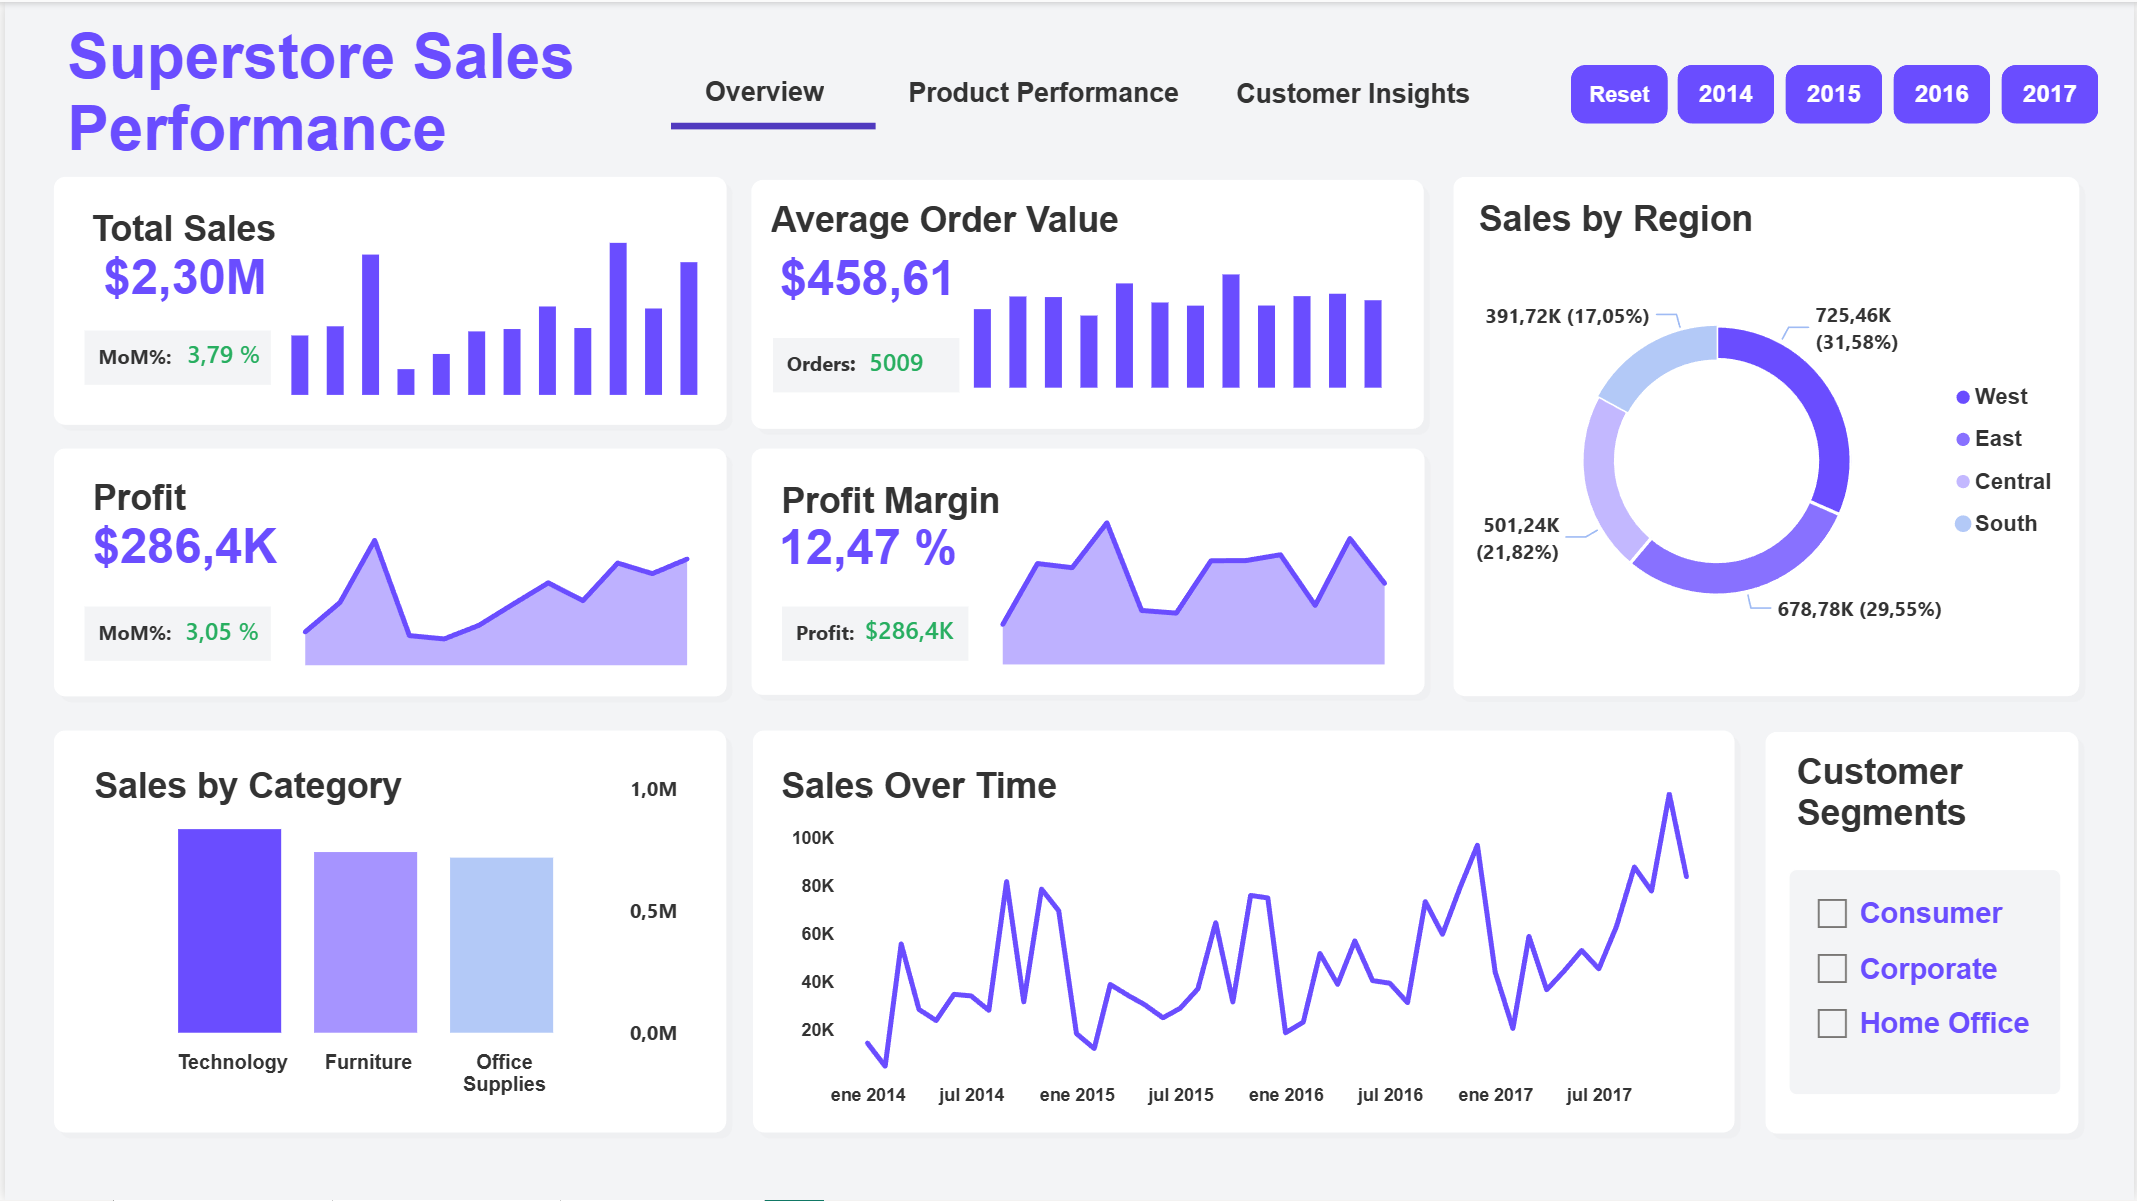

This screenshot's page, from the dashboard's own definition file:
{"tool":"powerbi","page":{"name":"Overview","canvas":[1280,720],"ordinal":0},"visuals":[{"type":"shape","box":[1053,433.5,198.1,251.4],"z":0},{"type":"shape","box":[865.3,100.2,386.2,322.1],"z":1000},{"type":"shape","box":[24.4,433.1,414.1,251.7],"z":2000},{"type":"shape","box":[444.8,433.1,600,251.7],"z":3000},{"type":"shape","box":[24,99.9,414.3,159.1],"z":4000},{"type":"card","fields":{"Values":["Superstore Orders.Total Sales"]},"box":[32.4,136.9,150.8,55.5],"z":5000},{"type":"clusteredColumnChart","fields":{"Y":["Superstore Orders.Total Sales"],"Category":["Superstore Orders.Category"]},"box":[48.7,453.8,367.2,218.3],"z":6000},{"type":"donutChart","fields":{"Category":["Superstore Orders.Region"],"Y":["Superstore Orders.Total Sales"]},"box":[881.1,154.9,364.1,240.4],"z":7000},{"type":"actionButton","box":[1005.6,37.9,58.3,35.1],"z":8000},{"type":"actionButton","box":[1070.4,37.9,58.3,35.1],"z":9000},{"type":"actionButton","box":[1135.1,37.9,58.3,35.1],"z":10000},{"type":"actionButton","box":[1199.5,37.9,58.3,35.1],"z":11000},{"type":"actionButton","box":[940.9,37.9,58.3,35.1],"z":12000},{"type":"slicer","fields":{"Values":["Date.Year"]},"box":[1251.1,691.7,22.7,28.9],"z":13000},{"type":"shape","box":[400.5,49.9,123,49.9],"z":14000},{"type":"actionButton","box":[394.9,34.2,123,39.8],"z":15000},{"type":"actionButton","box":[538.1,35.2,172,39.2],"z":16000},{"type":"actionButton","box":[727.9,35.1,165.5,39.8],"z":17000},{"type":"textbox","box":[32.2,5,349,100.6],"z":18000},{"type":"textbox","box":[47.3,118.7,134.8,46.3],"z":19000},{"type":"textbox","box":[48.1,197,111.9,32.4],"z":20000},{"type":"card","fields":{"Values":["Superstore Orders.Sales MoM %"]},"box":[92.5,194.2,76.8,38.8],"z":21000},{"type":"clusteredColumnChart","fields":{"Y":["Superstore Orders.Total Sales"],"Category":["Date.Month"]},"box":[167,117.7,254.5,123.7],"z":22000},{"type":"shape","box":[24,263.6,414.3,159.1],"z":23000},{"type":"textbox","box":[47.6,280.4,119.3,46.2],"z":24000},{"type":"textbox","box":[47.6,363.6,111.9,32.4],"z":25000},{"type":"card","fields":{"Values":["Superstore Orders.Profit MoM %"]},"box":[92,360.8,76.8,38.8],"z":26000},{"type":"stackedAreaChart","fields":{"Category":["Date.Month"],"Y":["Superstore Orders.Total Profit"]},"box":[166.9,280.4,256.2,123.9],"z":27000},{"type":"card","fields":{"Values":["Superstore Orders.Total Profit"]},"box":[32.2,298.7,150.9,55.3],"z":28000},{"type":"shape","box":[443.9,102,414.1,159.7],"z":29000},{"type":"textbox","box":[455.6,113.7,243.4,46.3],"z":30000},{"type":"textbox","box":[461.5,202,111.9,32.4],"z":31000},{"type":"card","fields":{"Values":["Superstore Orders.Total Orders"]},"box":[496.9,199.1,77.4,38.2],"z":32000},{"type":"card","fields":{"Values":["Superstore Orders.Average Order Value"]},"box":[444.6,137.8,147.8,54.3],"z":33000},{"type":"clusteredColumnChart","fields":{"Y":["Superstore Orders.Average Order Value"],"Category":["Date.Month"]},"box":[577.3,146.8,255.5,90.5],"z":34000},{"type":"shape","box":[443.8,263,414.6,158.2],"z":35000},{"type":"textbox","box":[461.4,281.8,158.9,45.3],"z":36000},{"type":"textbox","box":[467,363.1,111.9,32.4],"z":37000},{"type":"card","fields":{"Values":["Superstore Orders.Total Profit"]},"box":[505.2,360,76.5,39.3],"z":38000},{"type":"stackedAreaChart","fields":{"Y":["Superstore Orders.Profit Margin %"],"Category":["Date.Month"]},"box":[586.3,279.9,256.2,123.9],"z":39000},{"type":"card","fields":{"Values":["Superstore Orders.Profit Margin %"]},"box":[443.9,298.1,149.9,56.3],"z":40000},{"type":"textbox","box":[462,453.8,189.5,46],"z":41000},{"type":"textbox","box":[48.3,453.6,213.2,46.3],"z":42000},{"type":"textbox","box":[1072.2,521,163.9,135.8],"z":43000},{"type":"textbox","box":[881.1,112.6,183.1,46.3],"z":44000},{"type":"textbox","box":[1072.2,445.6,127.7,75.4],"z":45000},{"type":"slicer","fields":{"Values":["Superstore Orders.Segment"]},"box":[1076.4,526.9,156.1,124.5],"z":46000},{"type":"lineChart","fields":{"Y":["Superstore Orders.Total Sales"],"Category":["Date.YearMonthDate"]},"box":[466.7,461.6,568.3,210.2],"z":47000}]}

Visuals, with their boxes in screenshot pixels (x1, y1, x2, y2), scaled from the page's 1280x720 canvas onto the 2137x1201 screenshot:
shape: 1758:723:2089:1142
shape: 1445:167:2089:704
shape: 41:722:732:1142
shape: 743:722:1744:1142
shape: 40:167:732:432
card - Superstore Orders.Total Sales: 54:228:306:321
clusteredColumnChart - Superstore Orders.Total Sales x Superstore Orders.Category: 81:757:694:1121
donutChart - Superstore Orders.Region x Superstore Orders.Total Sales: 1471:258:2079:659
actionButton: 1679:63:1776:122
actionButton: 1787:63:1884:122
actionButton: 1895:63:1992:122
actionButton: 2003:63:2100:122
actionButton: 1571:63:1668:122
slicer - Date.Year: 2089:1154:2127:1200
shape: 669:83:874:166
actionButton: 659:57:865:123
actionButton: 898:59:1186:124
actionButton: 1215:59:1492:125
textbox: 54:8:636:176
textbox: 79:198:304:275
textbox: 80:329:267:383
card - Superstore Orders.Sales MoM %: 154:324:283:389
clusteredColumnChart - Superstore Orders.Total Sales x Date.Month: 279:196:704:403
shape: 40:440:732:705
textbox: 79:468:279:545
textbox: 79:607:266:661
card - Superstore Orders.Profit MoM %: 154:602:282:667
stackedAreaChart - Date.Month x Superstore Orders.Total Profit: 279:468:706:674
card - Superstore Orders.Total Profit: 54:498:306:590
shape: 741:170:1432:437
textbox: 761:190:1167:267
textbox: 770:337:957:391
card - Superstore Orders.Total Orders: 830:332:959:396
card - Superstore Orders.Average Order Value: 742:230:989:320
clusteredColumnChart - Superstore Orders.Average Order Value x Date.Month: 964:245:1390:396
shape: 741:439:1433:703
textbox: 770:470:1036:546
textbox: 780:606:966:660
card - Superstore Orders.Total Profit: 843:600:971:666
stackedAreaChart - Superstore Orders.Profit Margin % x Date.Month: 979:467:1407:674
card - Superstore Orders.Profit Margin %: 741:497:991:591
textbox: 771:757:1088:834
textbox: 81:757:437:834
textbox: 1790:869:2064:1096
textbox: 1471:188:1777:265
textbox: 1790:743:2003:869
slicer - Superstore Orders.Segment: 1797:879:2058:1087
lineChart - Superstore Orders.Total Sales x Date.YearMonthDate: 779:770:1728:1121
